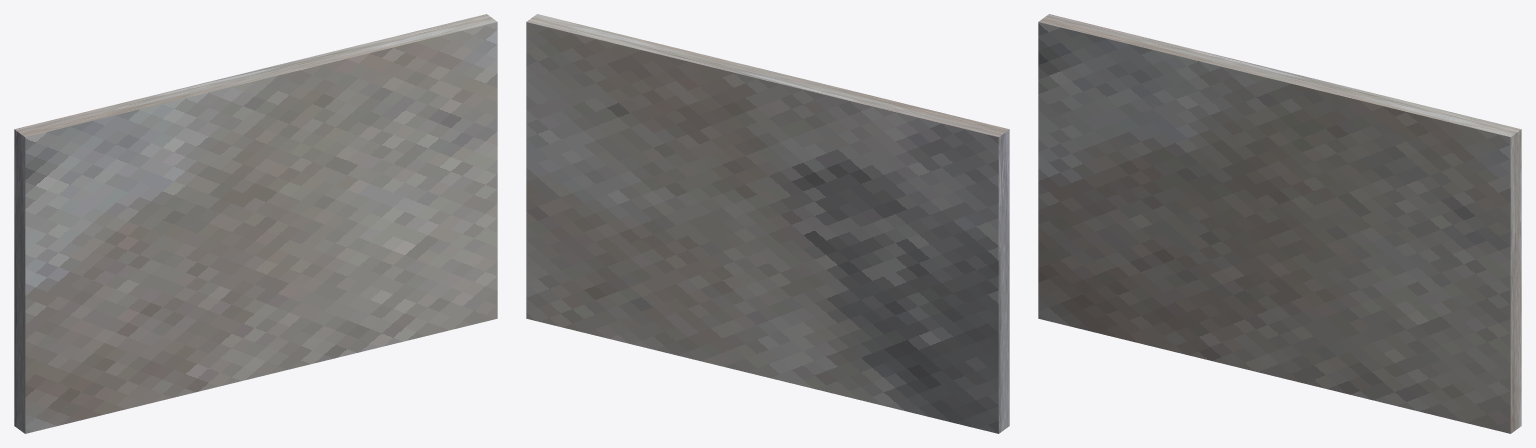
Rendered from Paredzota.gltf.
3 renders of one model, left to right at view 1: azimuth 30°, elevation 25°; view 2: azimuth 150°, elevation 25°; view 3: azimuth 330°, elevation 25°, orthographic.
Visible parts, largest first — view 1: Cube; view 2: Cube; view 3: Cube.
Boxes of the visible parts, box(x1,y1,x2,y2) form: Cube: box(14, 14, 497, 433); Cube: box(526, 14, 1009, 433); Cube: box(1038, 14, 1521, 433).
Size of the model in its own units: 50 by 30 by 2.
Materials: 1 (1 with a texture image).
